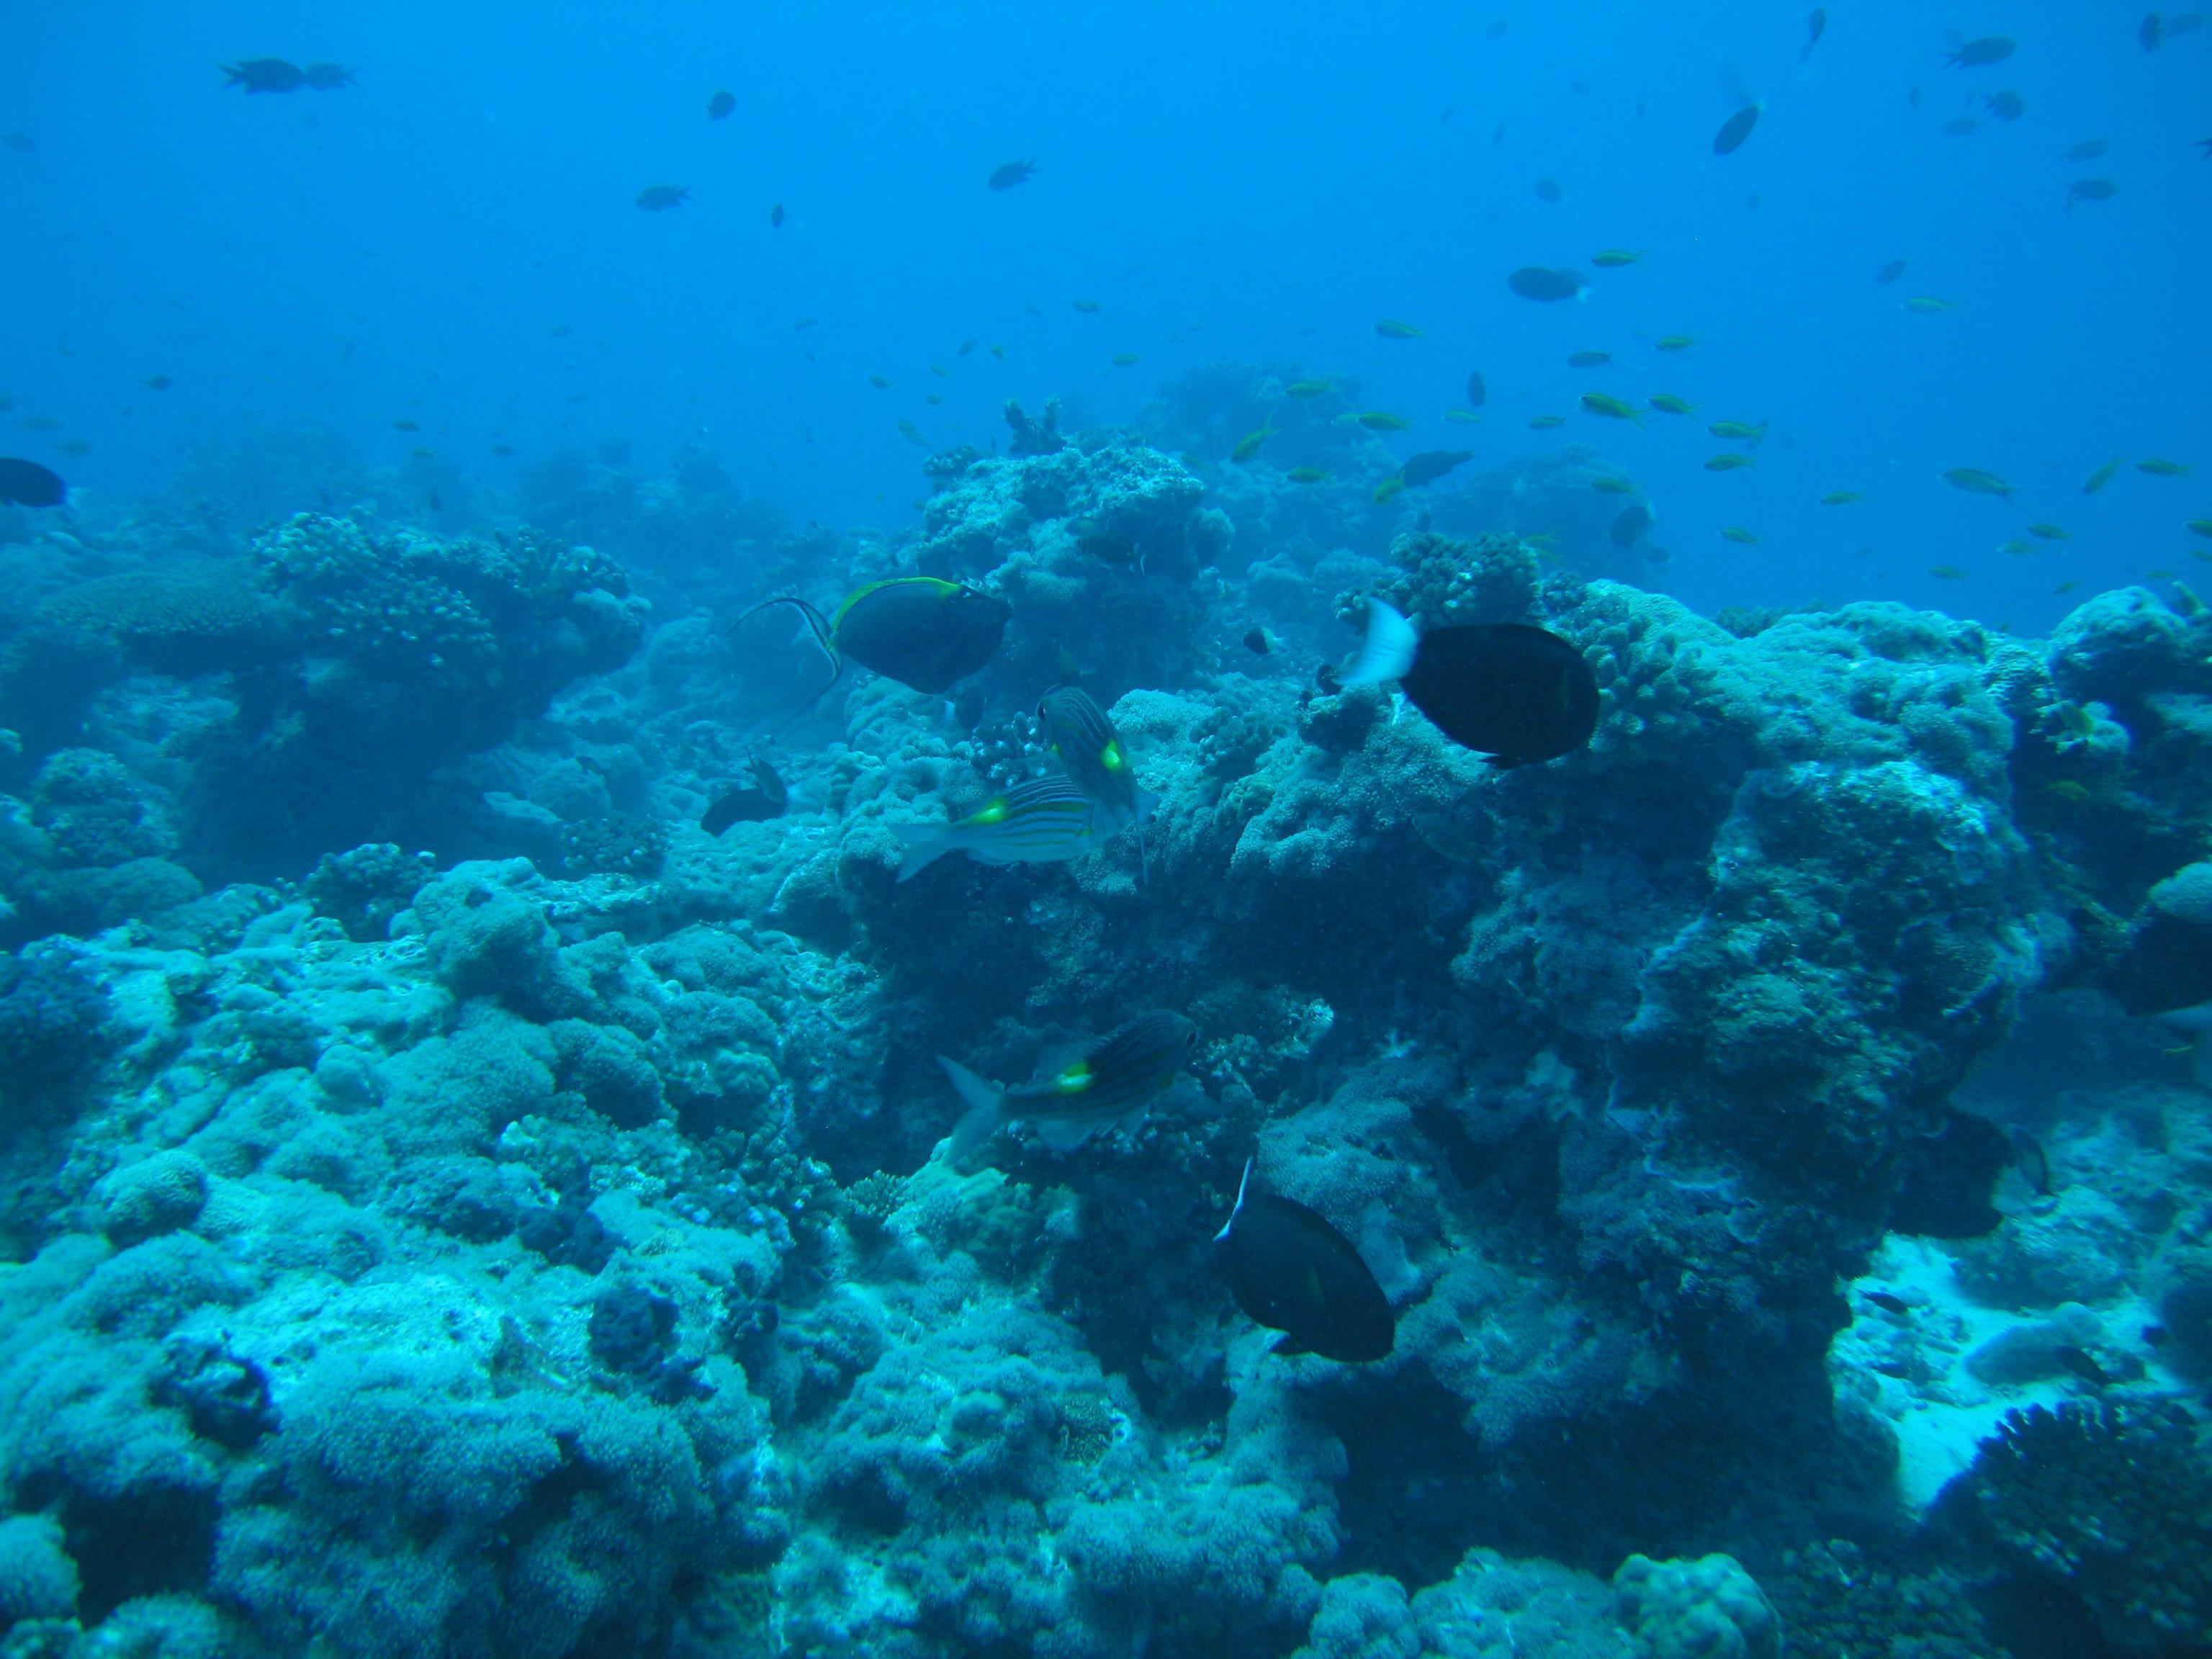Gnathodentex aureolineatus: (944, 1006, 1231, 1134), (897, 789, 1139, 897), (1031, 667, 1153, 831)
